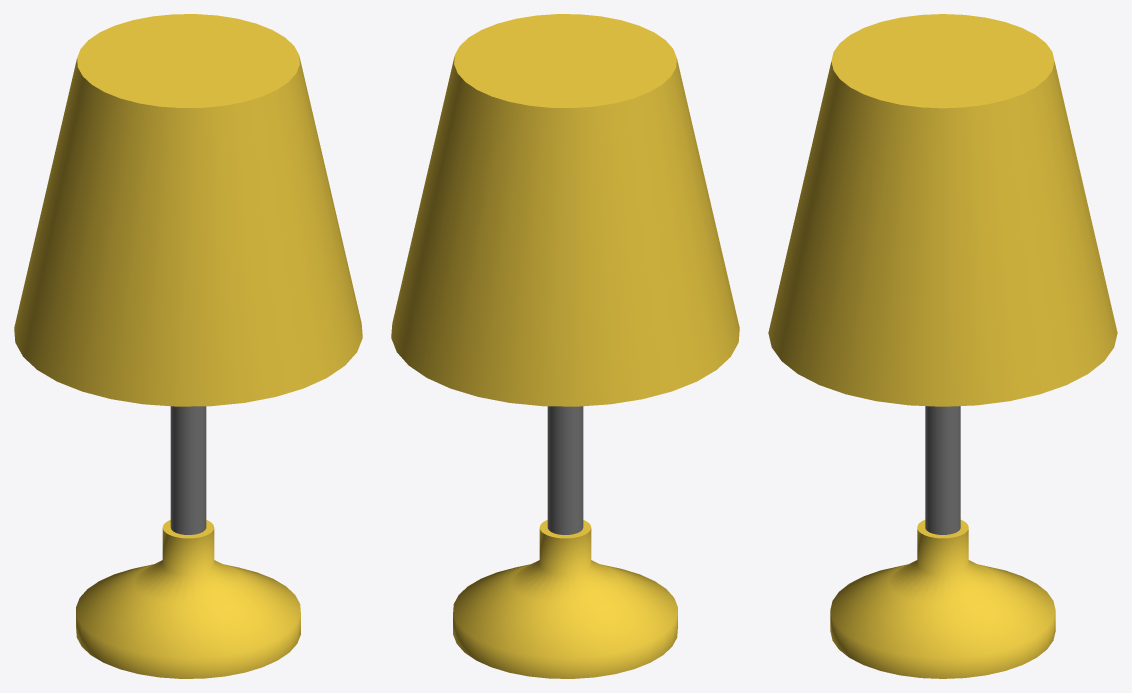
Rendered from Luminaria.fbx.
3 views of the same model, side by side, from view 1: azimuth 30°, elevation 25°; view 2: azimuth 150°, elevation 25°; view 3: azimuth 270°, elevation 25° (orthographic).
Parts seen in each view (by area): view 1: Luminária; view 2: Luminária; view 3: Luminária.
Boxes of the visible parts, <box> form: Luminária: <box>14,14,362,678</box>; Luminária: <box>391,14,739,678</box>; Luminária: <box>768,14,1117,678</box>.
Size of the model in its own units: 80.57 by 145 by 80.57.
1 material, 1 textured.
